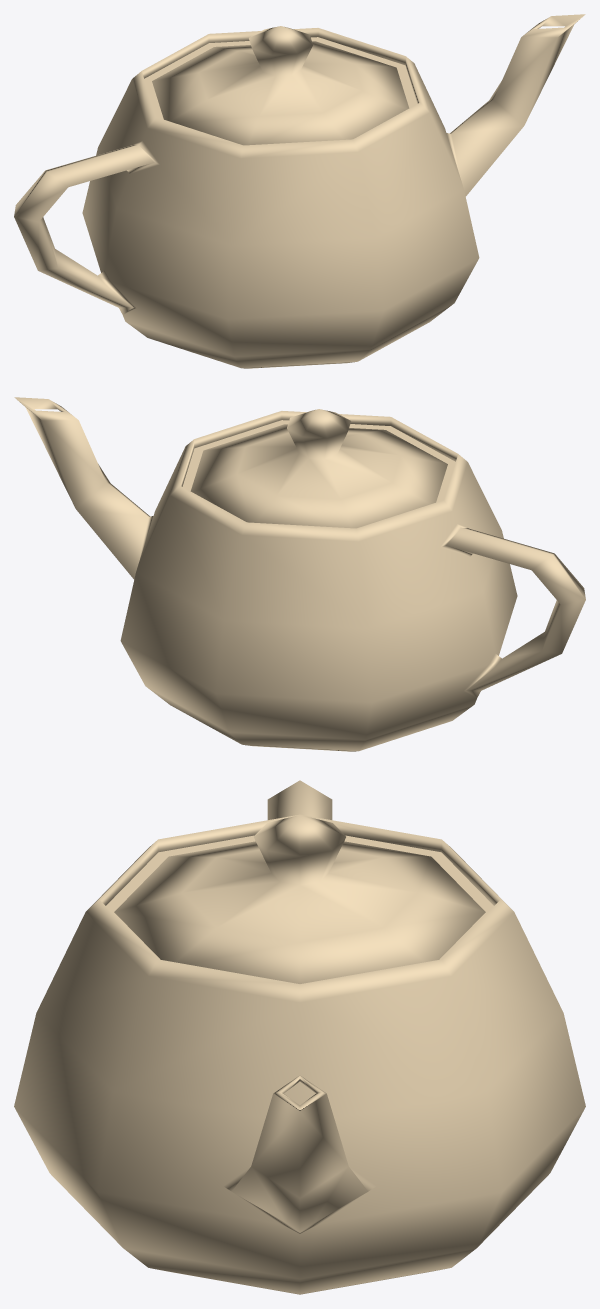
The model's file is utah_teapot_low.glb.
3 views of the same model, one above another, from view 1: azimuth 30°, elevation 25°; view 2: azimuth 150°, elevation 25°; view 3: azimuth 270°, elevation 25° (orthographic). The views are drawn at different scales.
Parts seen in each view (by area): view 1: Utah Teapot; view 2: Utah Teapot; view 3: Utah Teapot.
Part boxes in pixels (x1,y1,x2,y2): Utah Teapot: (14,14,585,368); Utah Teapot: (14,397,585,751); Utah Teapot: (14,780,585,1294).
Size of the model in its own units: 6.43 by 3.15 by 4.
